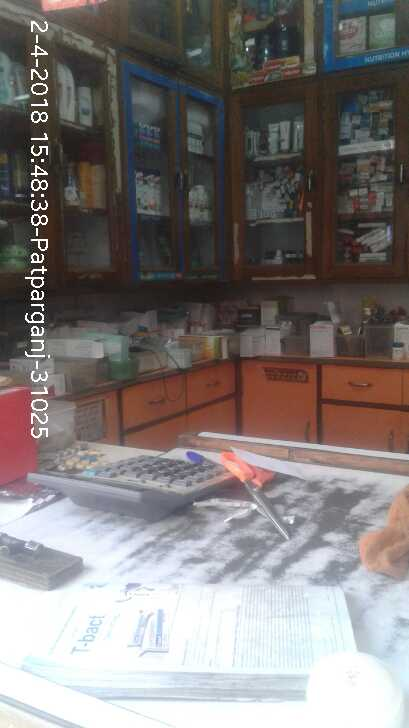vicks: (140, 124, 151, 148), (151, 127, 161, 148)
